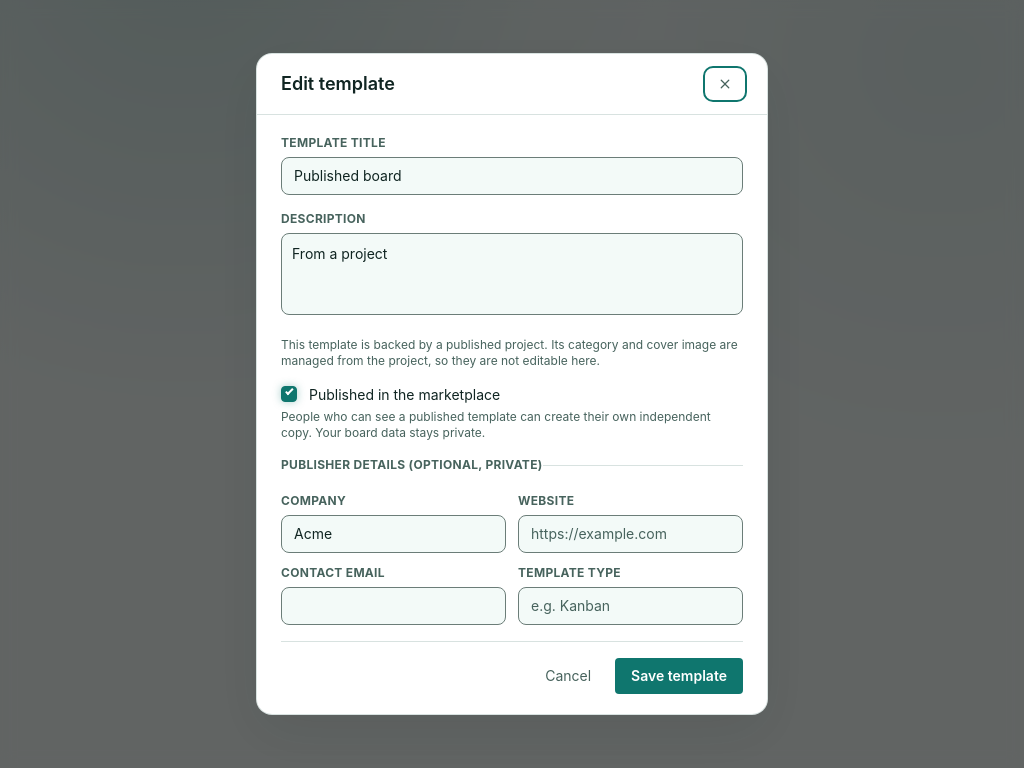
Test: template edit form › shows the server 400 message instead of pretending the edit worked
The image size is (1024, 768).
Click the button "Save template": click(679, 676) [615, 658, 743, 694]
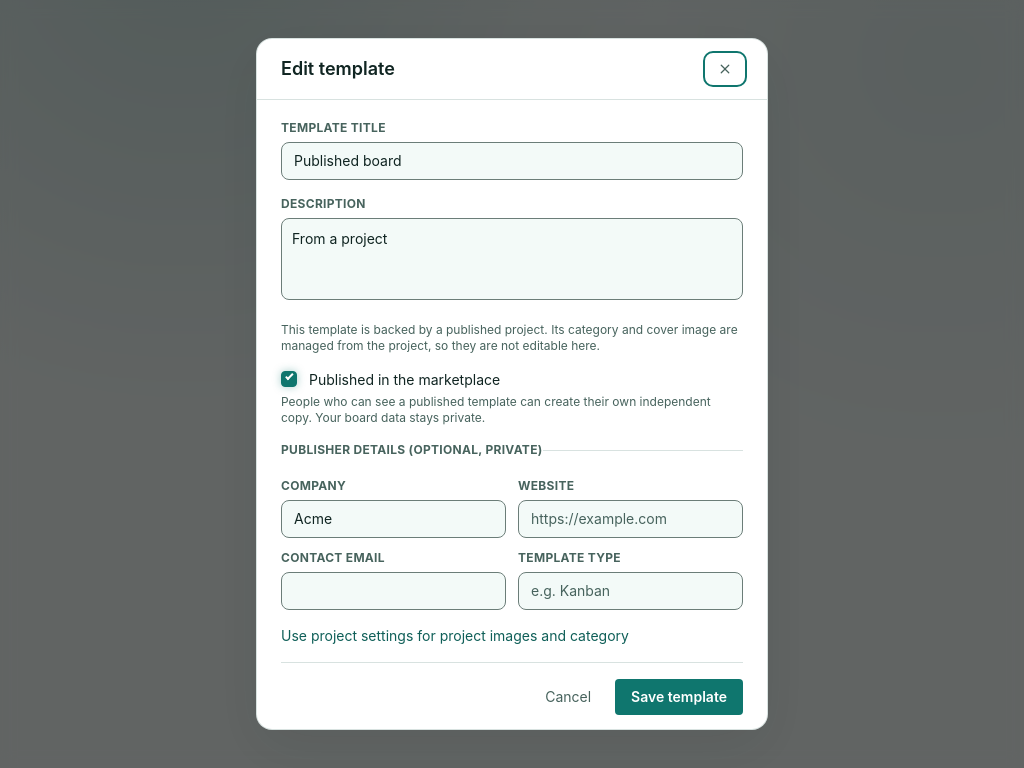
Expected: the message reads "Use project settings for project images and category", [281, 627, 629, 644]
